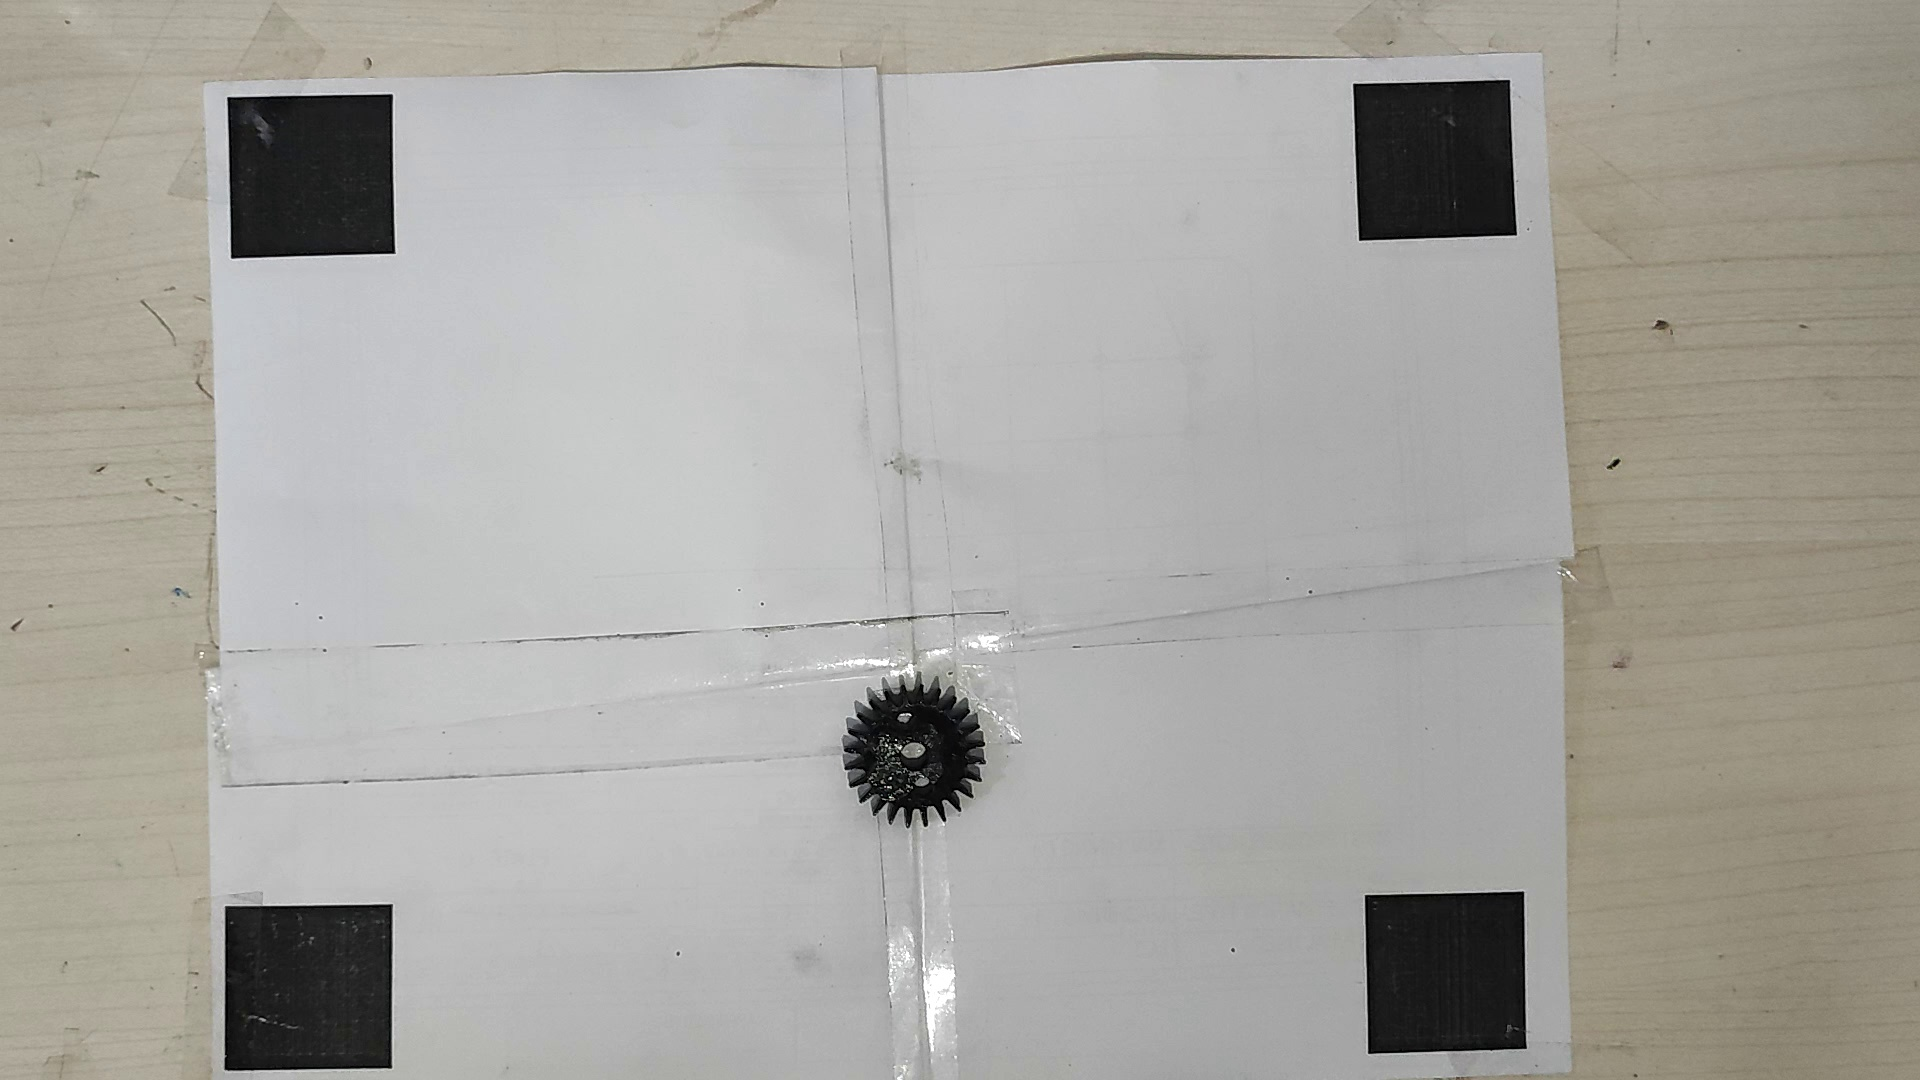Gear: (840, 674, 988, 823)
